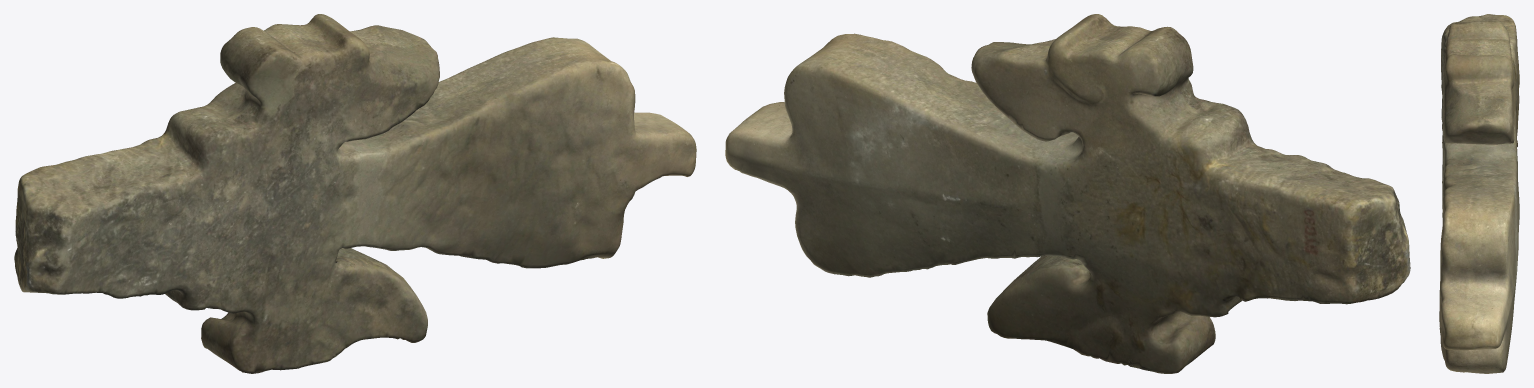
The model's file is 25_vattrangtri_final.glb.
3 renders of one model, left to right at view 1: azimuth 30°, elevation 25°; view 2: azimuth 150°, elevation 25°; view 3: azimuth 270°, elevation 25°, orthographic. The views are drawn at different scales.
Size of the model in its own units: 0.6369 by 0.2973 by 0.0864.
Materials: 1 (1 with a texture image).
